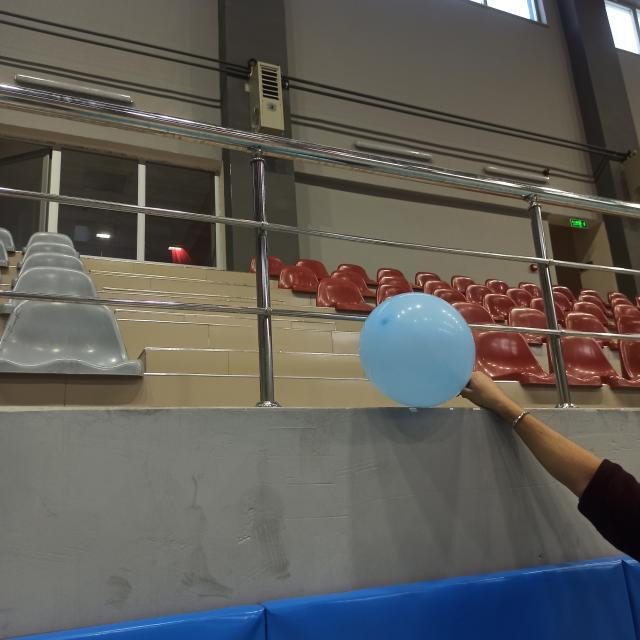balloon: (360, 290, 474, 405)
